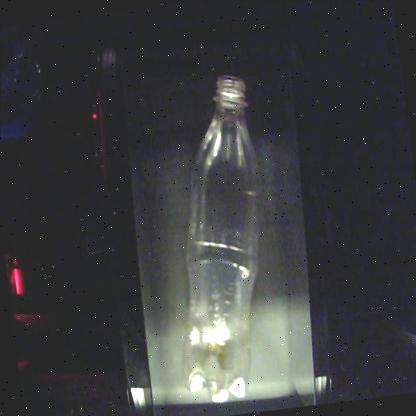Plastic Bottle: (184, 74, 258, 402)
